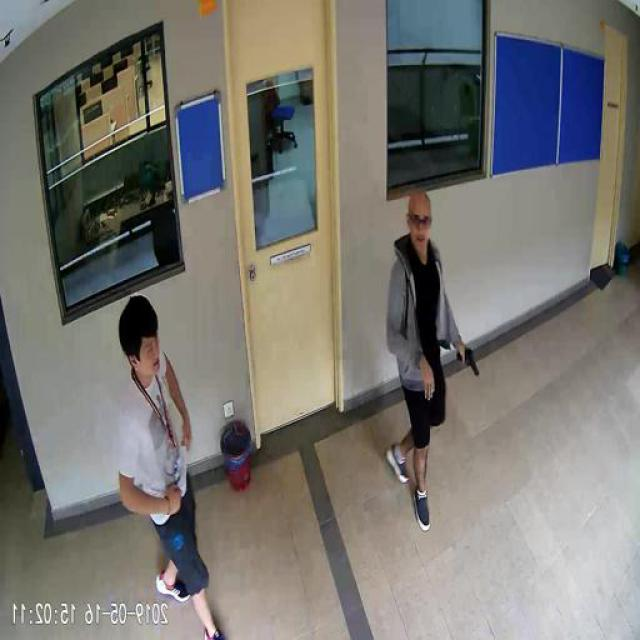Gun: (459, 344, 480, 375)
